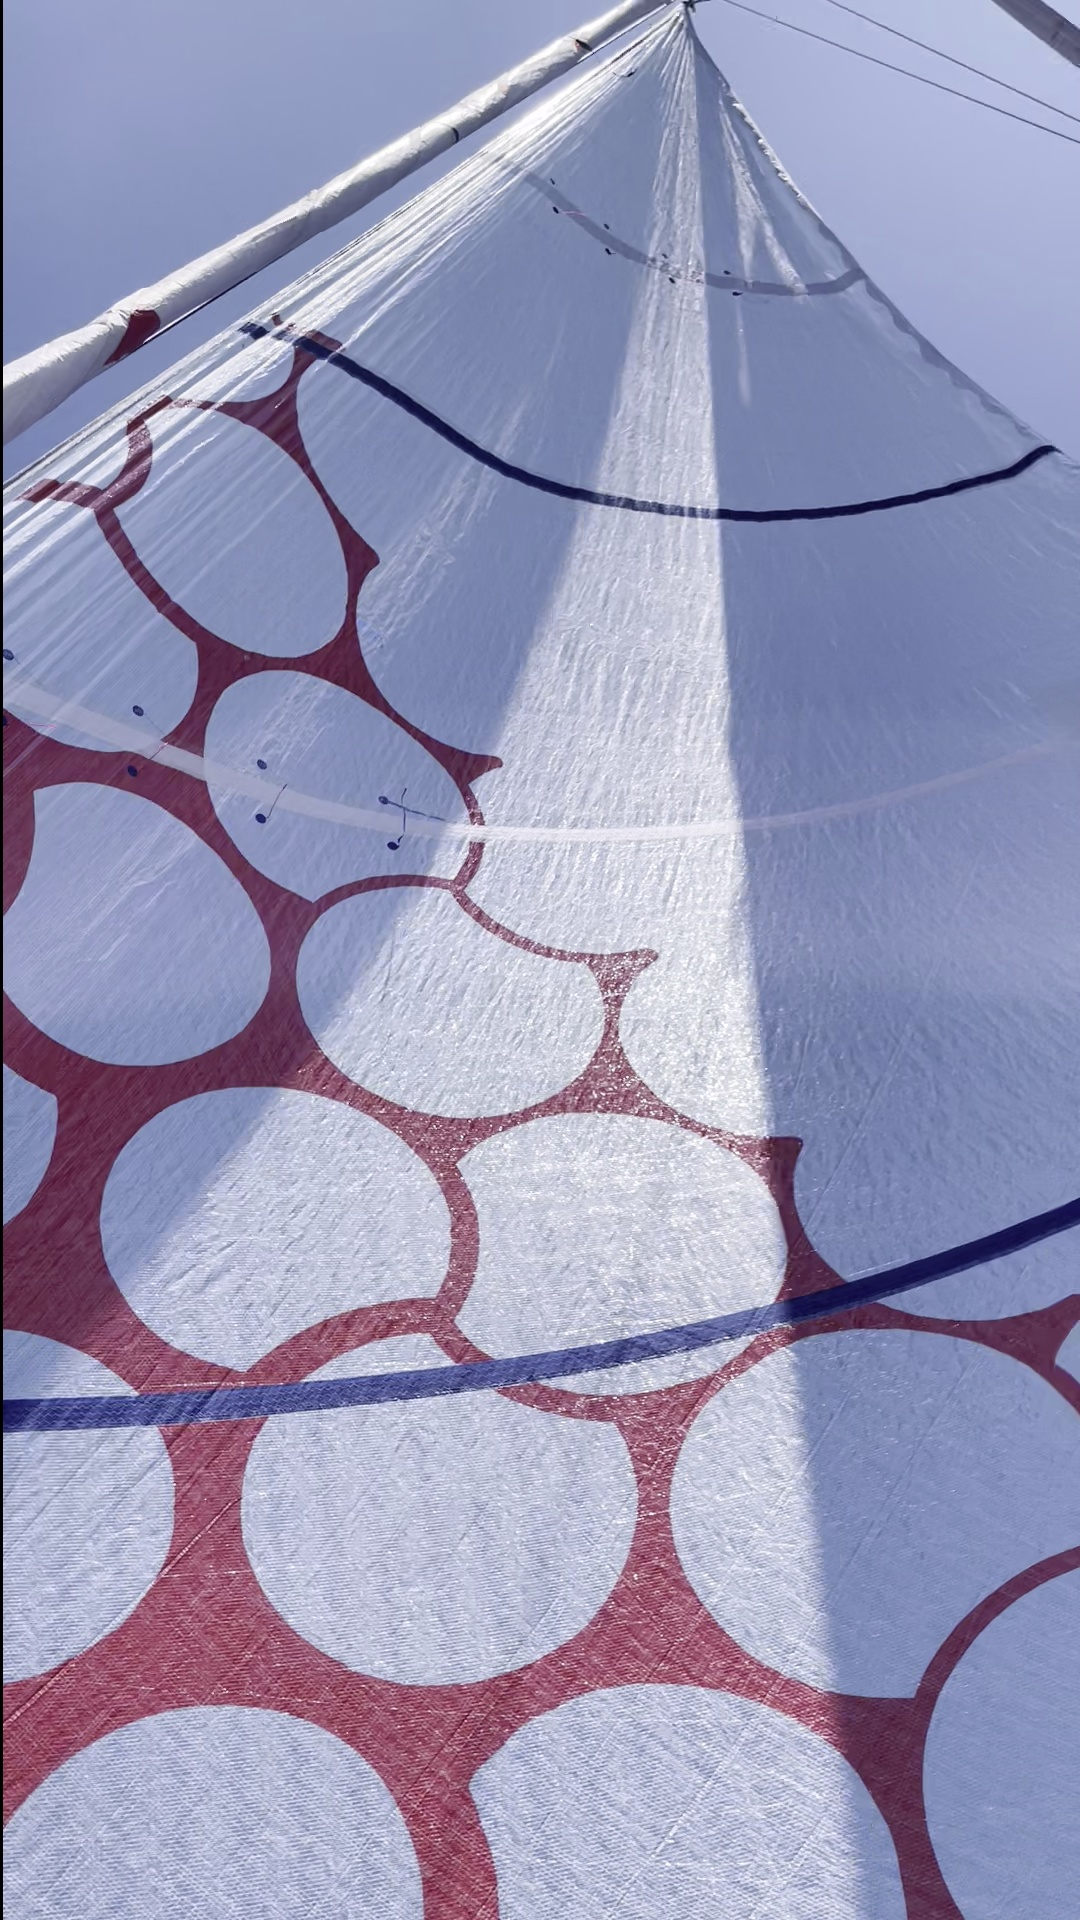pennon_attached: (371, 782, 448, 832), (720, 287, 779, 314), (592, 243, 641, 265)
pennon_detached: (369, 785, 422, 856), (119, 742, 186, 791), (0, 703, 66, 744), (249, 773, 297, 829), (549, 207, 596, 227), (607, 69, 644, 86)
